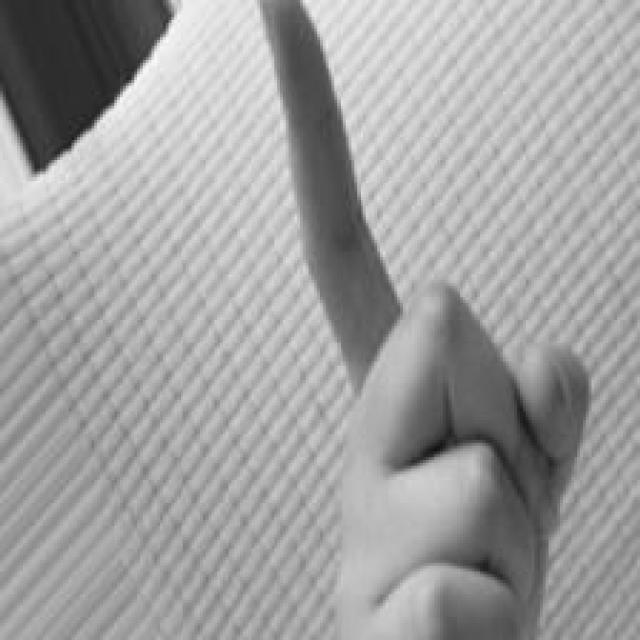I: (255, 0, 591, 640)
